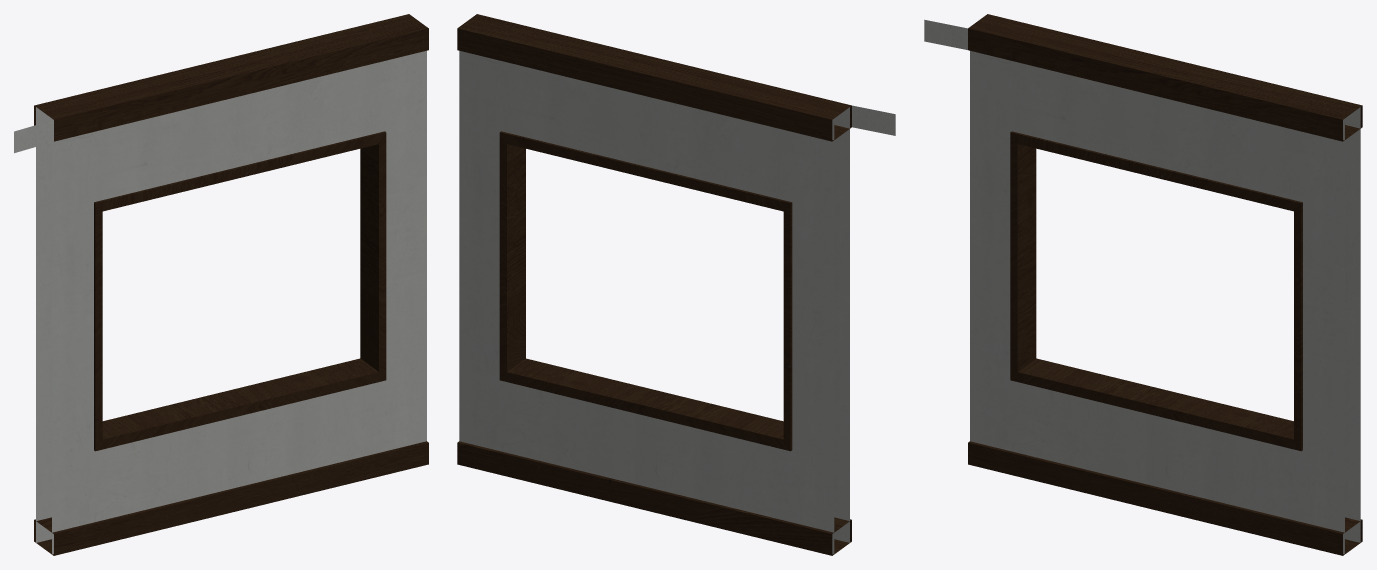
Rendered from palace-wall-hole.fbx.
The picture shows the model from 3 angles, left to right: view 1: azimuth 30°, elevation 25°; view 2: azimuth 150°, elevation 25°; view 3: azimuth 330°, elevation 25°; orthographic projection.
Parts seen in each view (by area): view 1: 通用贵族墙带窗洞_Baked.001_Baked; view 2: 通用贵族墙带窗洞_Baked.001_Baked; view 3: 通用贵族墙带窗洞_Baked.001_Baked.
Part boxes in pixels (x1,y1,x2,y2): 通用贵族墙带窗洞_Baked.001_Baked: (14, 14, 428, 555); 通用贵族墙带窗洞_Baked.001_Baked: (457, 14, 895, 555); 通用贵族墙带窗洞_Baked.001_Baked: (924, 14, 1362, 555).
Bounding box in the file's own units: 400 × 400 × 36.
